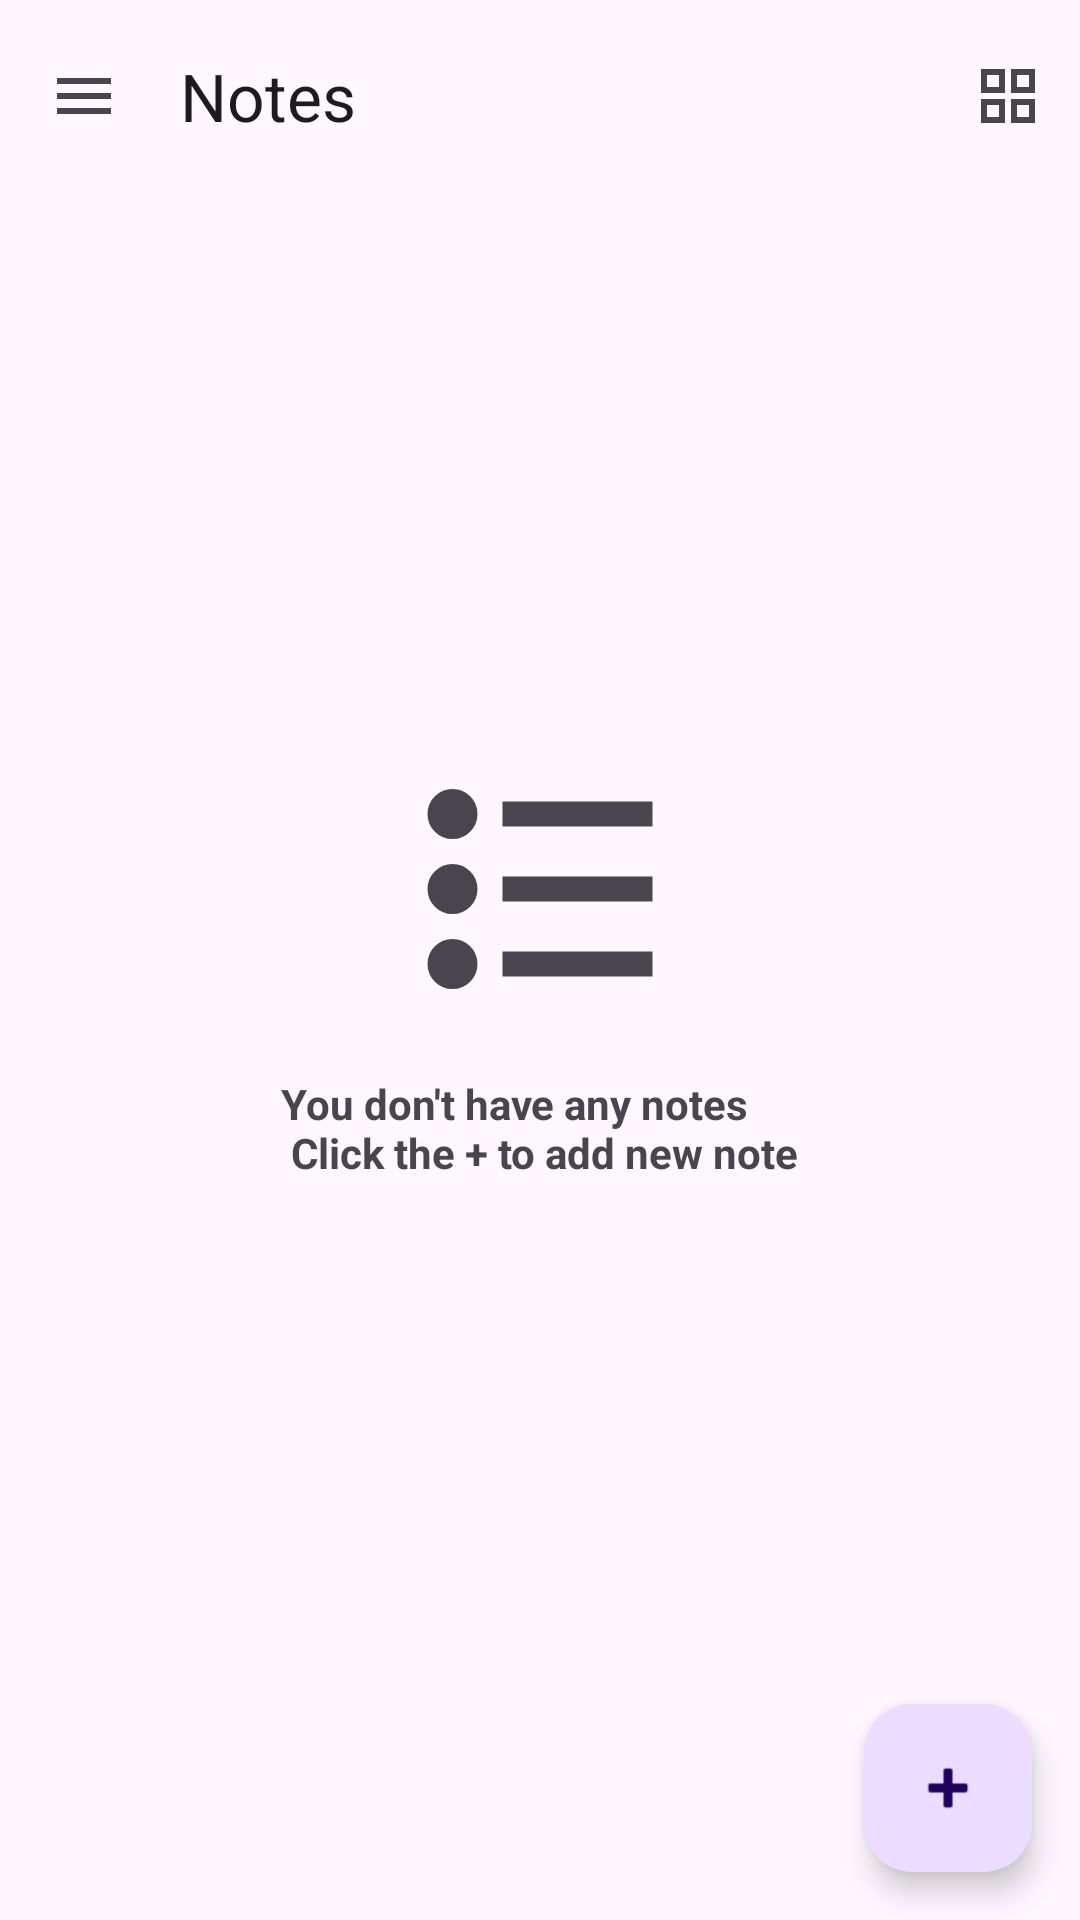

Where icons sit on this 1080w x 1920h app screen, as (x1, y1, x2, y2):
Create new note: (864, 1704, 1032, 1872)
